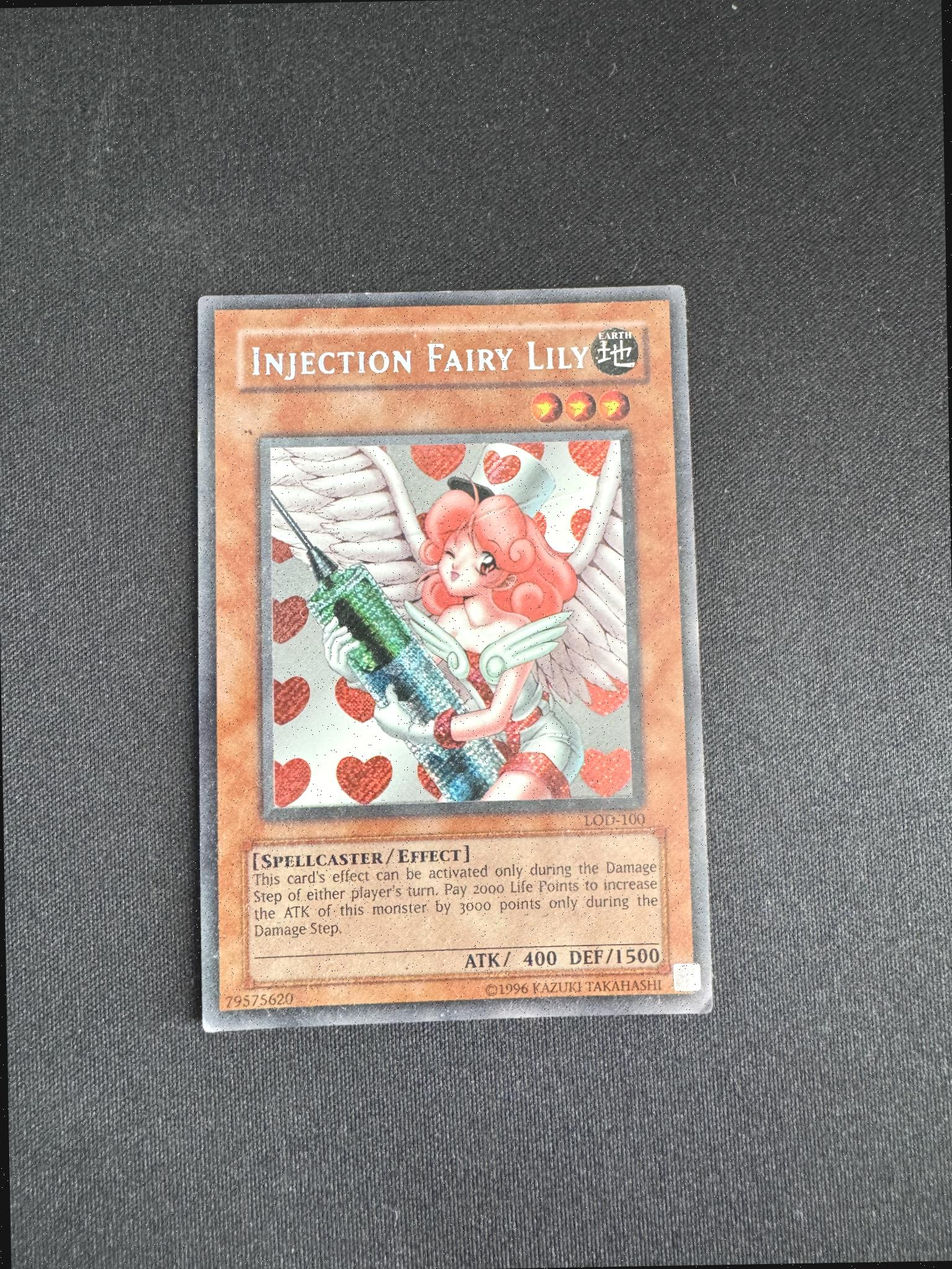card-2UtV: (197, 285, 713, 1033)
